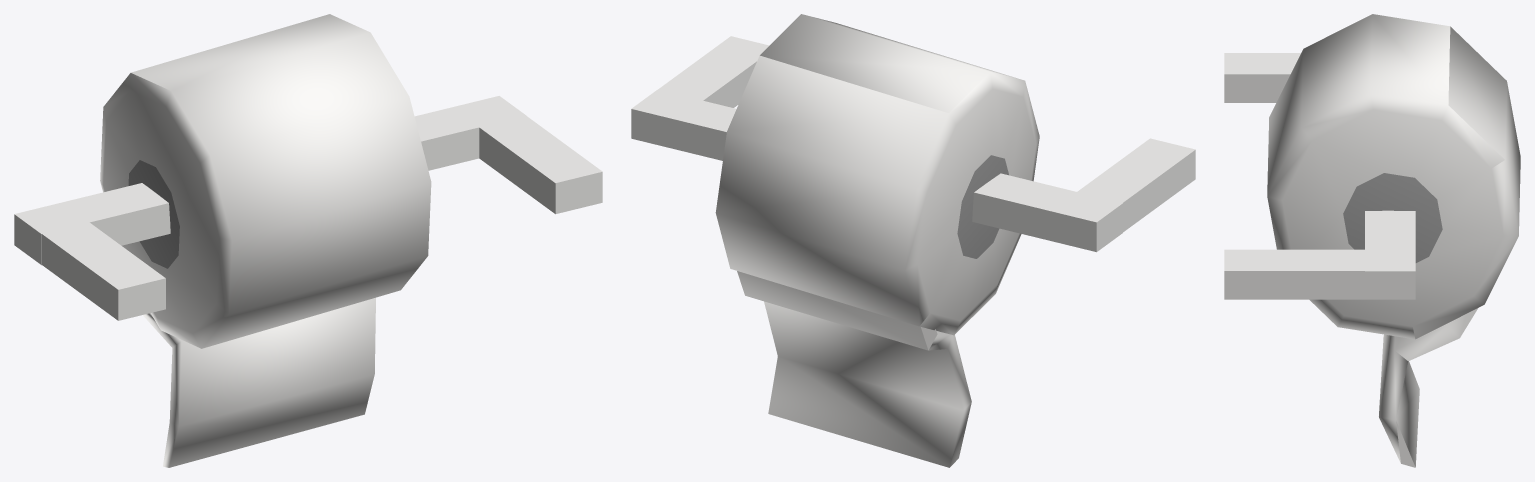
Rendered from Toilet_Paper_Holder.fbx.
3 renders of one model, left to right at view 1: azimuth 30°, elevation 25°; view 2: azimuth 150°, elevation 25°; view 3: azimuth 270°, elevation 25°, orthographic. The views are drawn at different scales.
Visible parts, largest first — view 1: Toilet_Paper_Holder; view 2: Toilet_Paper_Holder; view 3: Toilet_Paper_Holder.
Part boxes in pixels (bbox=[...]): Toilet_Paper_Holder: bbox=[14, 14, 602, 467]; Toilet_Paper_Holder: bbox=[631, 14, 1195, 467]; Toilet_Paper_Holder: bbox=[1224, 14, 1520, 467].
Size of the model in its own units: 379 by 305 by 217.
